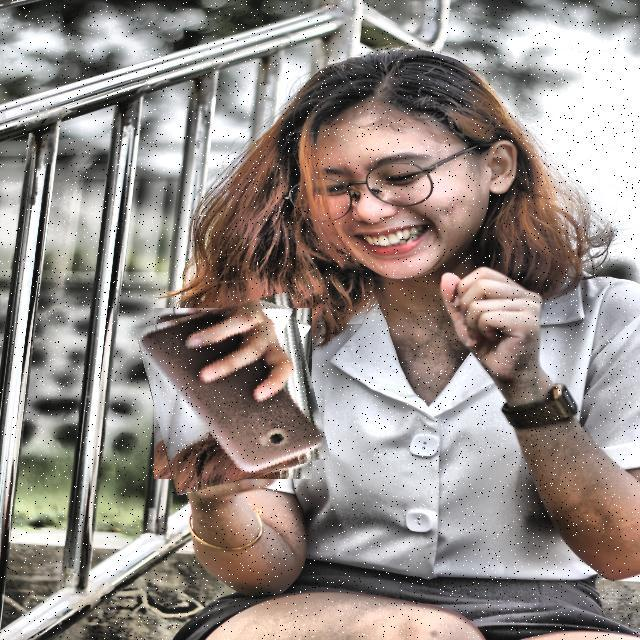Phone: (144, 299, 321, 488)
